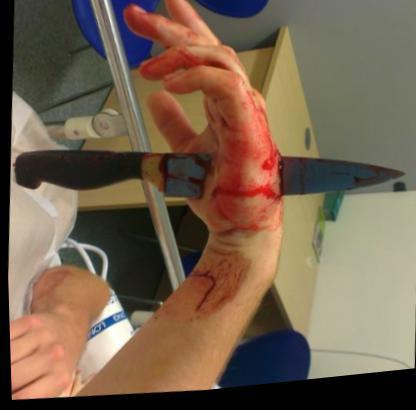knife: (149, 100, 412, 223)
